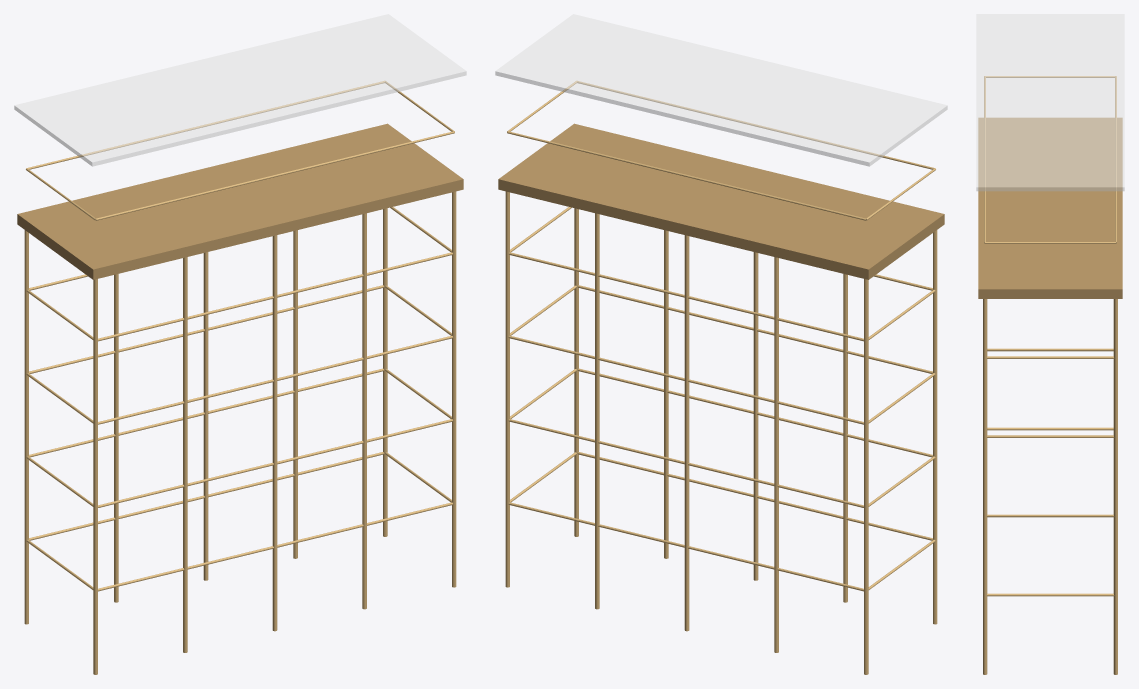
File: SM_PlateformeVP.glb
The picture shows the model from 3 angles, left to right: view 1: azimuth 30°, elevation 25°; view 2: azimuth 150°, elevation 25°; view 3: azimuth 270°, elevation 25°; orthographic projection. The views are drawn at different scales.
Visible parts, largest first — view 1: SM_PlateformeVP_26, SM_PlateformeVP_31, SM_PlateformeVP_5, SM_PlateformeVP_1, SM_PlateformeVP_9, SM_PlateformeVP_7, SM_PlateformeVP_3, SM_PlateformeVP_0, SM_PlateformeVP_4, SM_PlateformeVP_2, SM_PlateformeVP_6, SM_PlateformeVP_8 (+9 smaller); view 2: SM_PlateformeVP_26, SM_PlateformeVP_31, SM_PlateformeVP_4, SM_PlateformeVP_0, SM_PlateformeVP_8, SM_PlateformeVP_6, SM_PlateformeVP_2, SM_PlateformeVP_1, SM_PlateformeVP_5, SM_PlateformeVP_3, SM_PlateformeVP_7, SM_PlateformeVP_9 (+9 smaller); view 3: SM_PlateformeVP_31, SM_PlateformeVP_26, SM_PlateformeVP_8, SM_PlateformeVP_9, SM_PlateformeVP_13, SM_PlateformeVP_17, SM_PlateformeVP_12, SM_PlateformeVP_16, SM_PlateformeVP_21, SM_PlateformeVP_25, SM_PlateformeVP_27, SM_PlateformeVP_28 (+2 smaller).
Boxes of the visible parts, x1=… form: SM_PlateformeVP_26: x1=17, y1=123, x2=463, y2=279; SM_PlateformeVP_31: x1=14, y1=14, x2=466, y2=166; SM_PlateformeVP_5: x1=272, y1=235, x2=277, y2=631; SM_PlateformeVP_1: x1=93, y1=279, x2=97, y2=674; SM_PlateformeVP_9: x1=452, y1=191, x2=456, y2=587; SM_PlateformeVP_7: x1=362, y1=213, x2=366, y2=609; SM_PlateformeVP_3: x1=183, y1=257, x2=187, y2=652; SM_PlateformeVP_0: x1=24, y1=230, x2=28, y2=624; SM_PlateformeVP_4: x1=203, y1=252, x2=208, y2=580; SM_PlateformeVP_2: x1=114, y1=274, x2=118, y2=602; SM_PlateformeVP_6: x1=293, y1=230, x2=297, y2=558; SM_PlateformeVP_8: x1=383, y1=208, x2=387, y2=536; SM_PlateformeVP_26: x1=498, y1=123, x2=944, y2=279; SM_PlateformeVP_31: x1=495, y1=14, x2=947, y2=166; SM_PlateformeVP_4: x1=684, y1=235, x2=689, y2=631; SM_PlateformeVP_0: x1=864, y1=279, x2=868, y2=674; SM_PlateformeVP_8: x1=505, y1=191, x2=509, y2=587; SM_PlateformeVP_6: x1=595, y1=213, x2=599, y2=609; SM_PlateformeVP_2: x1=774, y1=257, x2=778, y2=652; SM_PlateformeVP_1: x1=933, y1=230, x2=937, y2=624; SM_PlateformeVP_5: x1=753, y1=252, x2=758, y2=580; SM_PlateformeVP_3: x1=843, y1=274, x2=847, y2=602; SM_PlateformeVP_7: x1=664, y1=230, x2=668, y2=558; SM_PlateformeVP_9: x1=574, y1=208, x2=578, y2=536; SM_PlateformeVP_31: x1=976, y1=14, x2=1124, y2=191; SM_PlateformeVP_26: x1=978, y1=117, x2=1122, y2=298; SM_PlateformeVP_8: x1=1113, y1=299, x2=1117, y2=674; SM_PlateformeVP_9: x1=983, y1=299, x2=987, y2=674; SM_PlateformeVP_13: x1=986, y1=593, x2=1114, y2=596; SM_PlateformeVP_17: x1=986, y1=514, x2=1114, y2=517; SM_PlateformeVP_12: x1=987, y1=427, x2=1113, y2=430; SM_PlateformeVP_16: x1=987, y1=348, x2=1113, y2=351; SM_PlateformeVP_21: x1=986, y1=435, x2=1114, y2=437; SM_PlateformeVP_25: x1=986, y1=356, x2=1114, y2=358; SM_PlateformeVP_27: x1=1115, y1=76, x2=1116, y2=243; SM_PlateformeVP_28: x1=984, y1=76, x2=985, y2=243.
Size of the model in its own units: 9.4 by 12.4 by 3.4.
